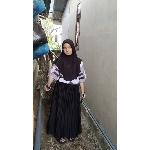Pedang: (42, 57, 54, 96)
